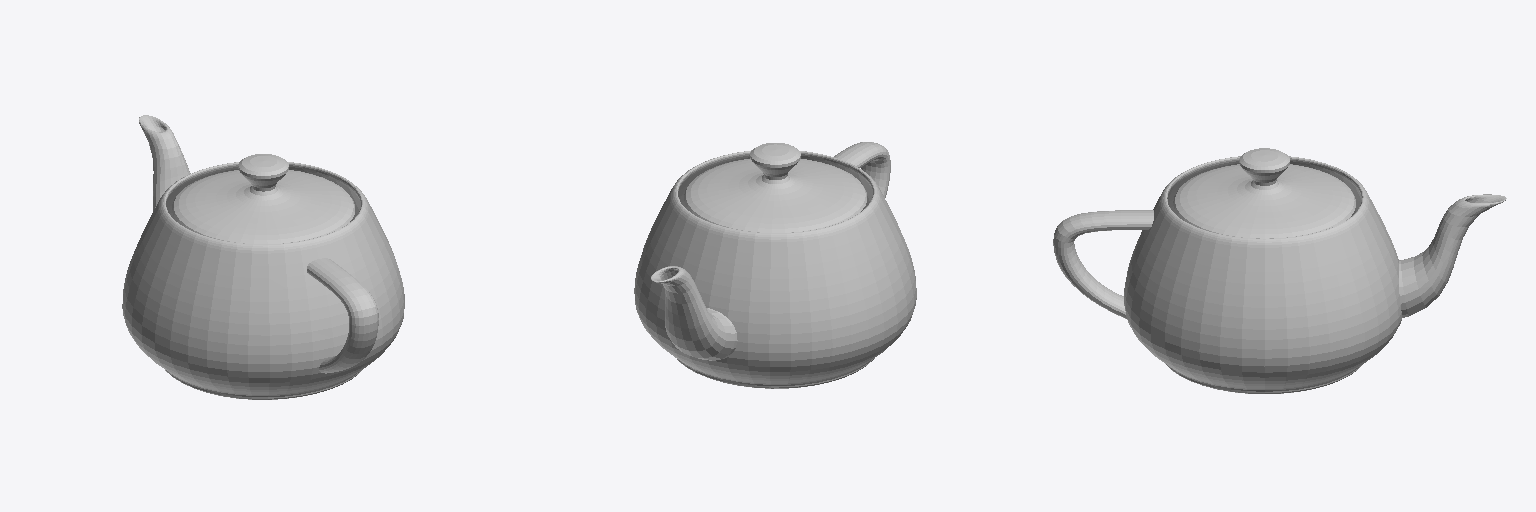
File: teapot.obj
The picture shows the model from 3 angles: view 1: azimuth 30°, elevation 25°; view 2: azimuth 150°, elevation 25°; view 3: azimuth 270°, elevation 25°; orthographic projection.
Visible parts, largest first — view 1: teapot; view 2: teapot; view 3: teapot.
Part boxes in pixels (bbox=[...]): teapot: bbox=[122, 115, 404, 399]; teapot: bbox=[634, 142, 916, 388]; teapot: bbox=[1053, 148, 1506, 393].
Size of the model in its own units: 0.3 by 0.2362 by 0.4825.